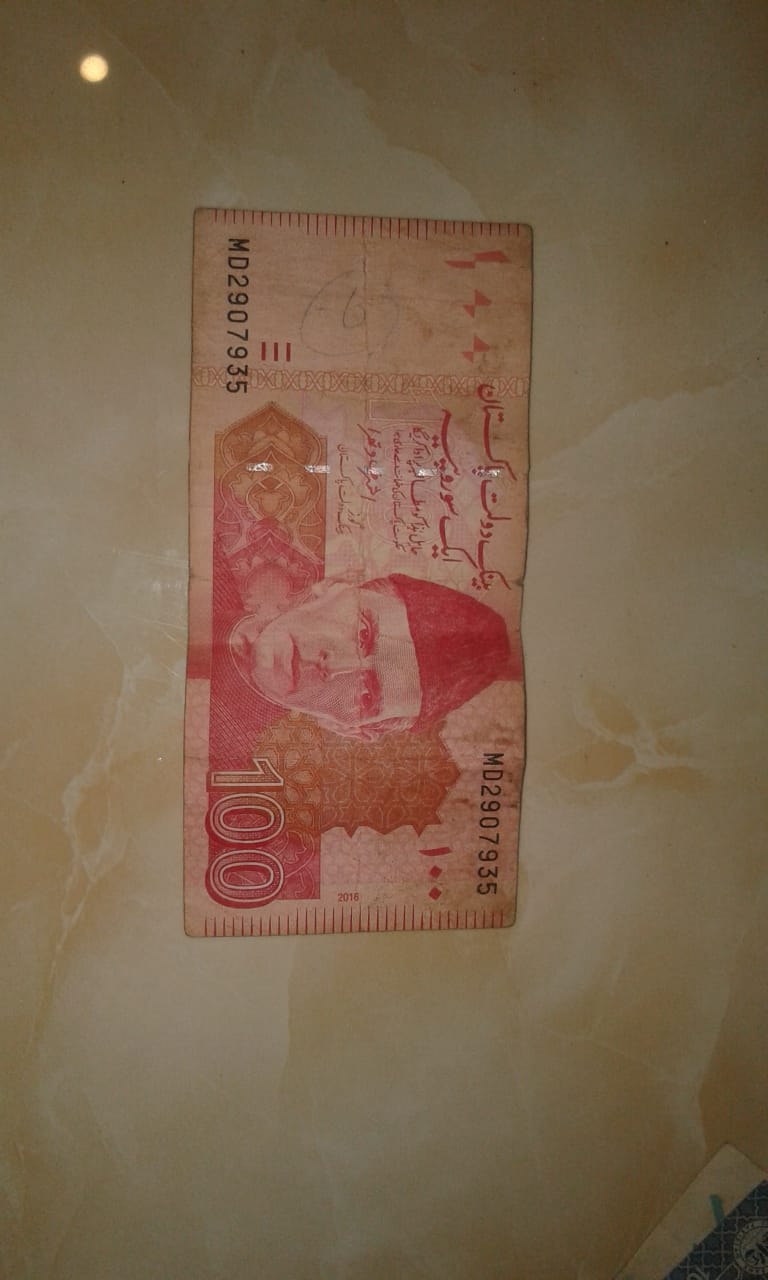100 rupee: (172, 207, 542, 929)
